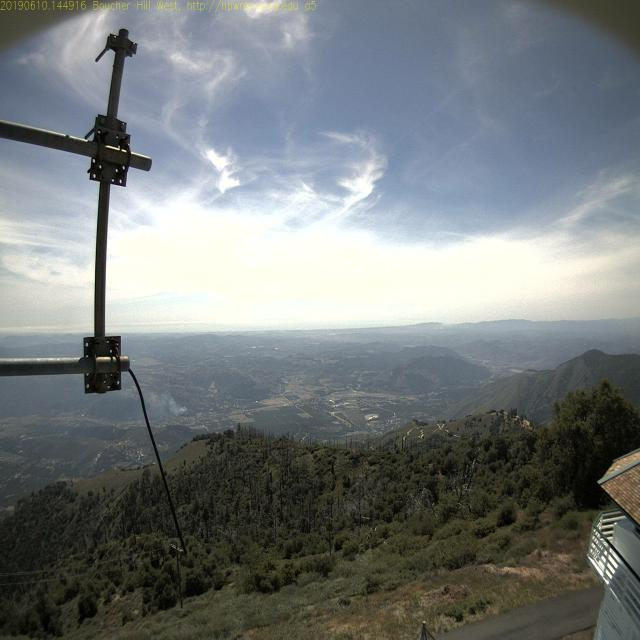smoke: (176, 395, 193, 418)
